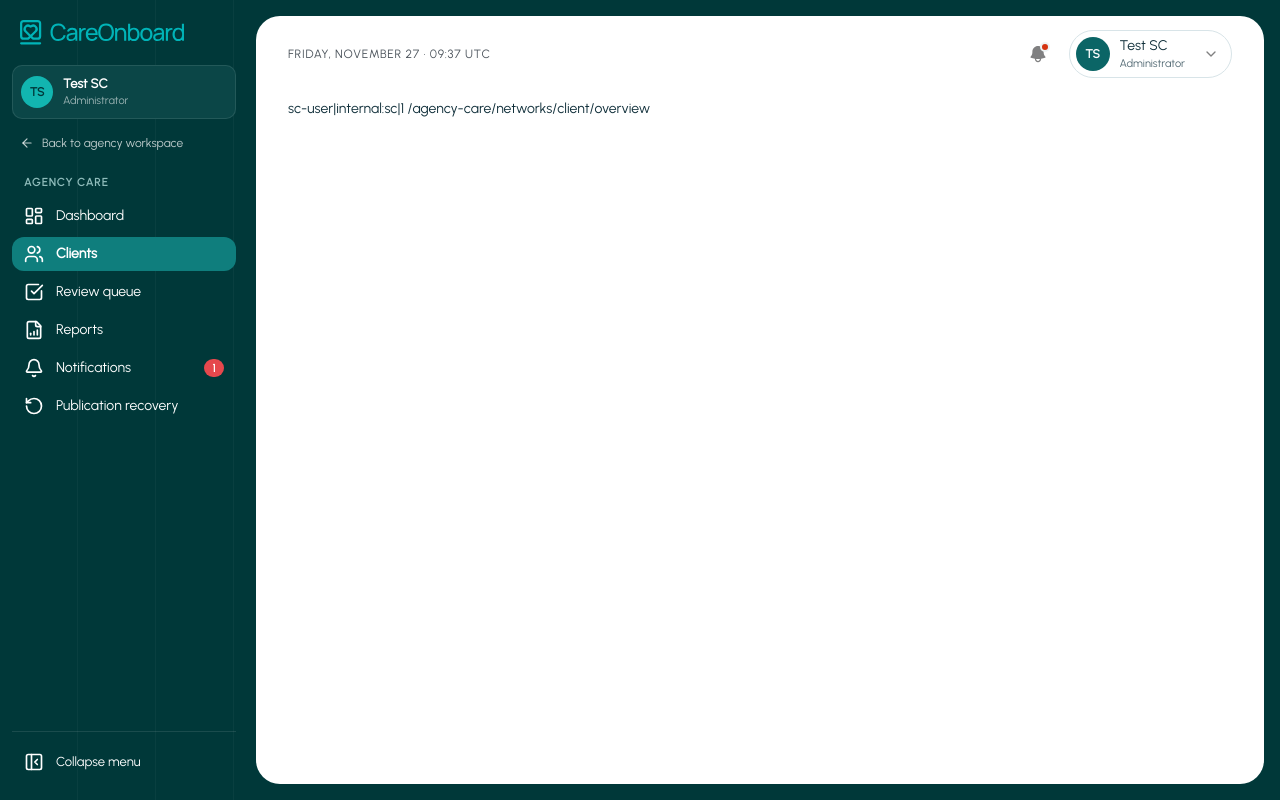
keeps collapsed sidebar labels accessible and moves the content with the sidebar
Check: the text "sc-user|internal:sc|1 /agency-care/networks/client/overview" is shown, box [288,100,650,117]
Click the button with aria-label "Collapse sidebar": x=124, y=762 [12,740,236,784]
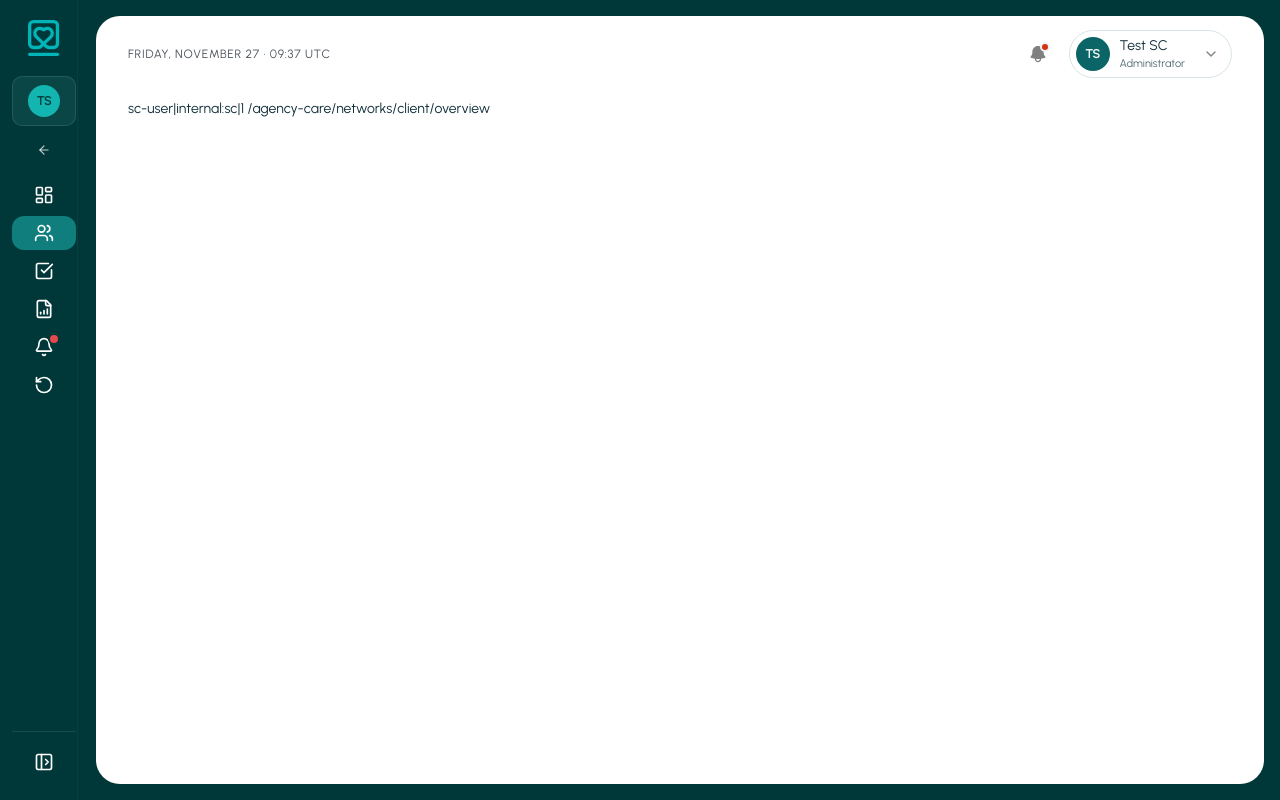
Check: the element showing "sc-user|internal:sc|1 /agency-care/networks/client/overview" has class "md:ml-[96px]"
Click the button named "Expand sidebar": x=44, y=762 [12,740,76,784]
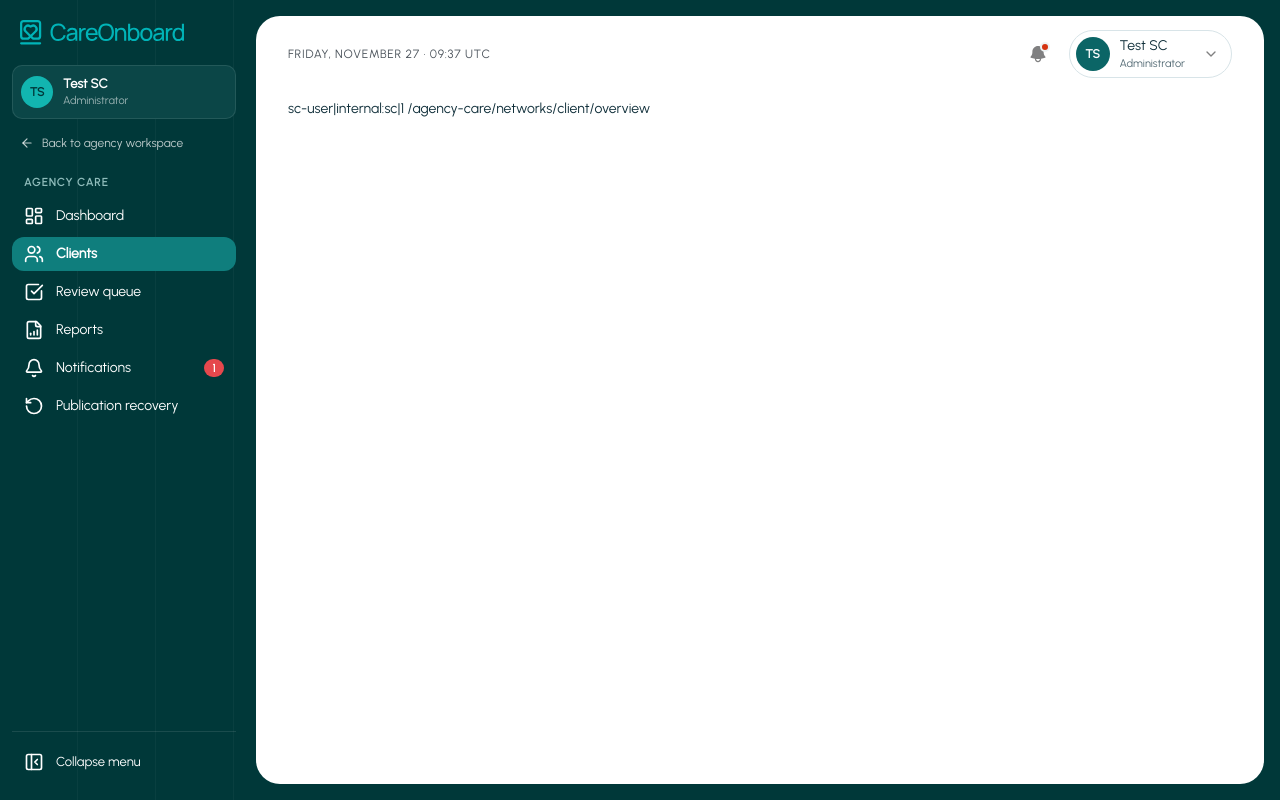
Check: the element showing "sc-user|internal:sc|1 /agency-care/networks/client/overview" has class "md:ml-[256px]"
